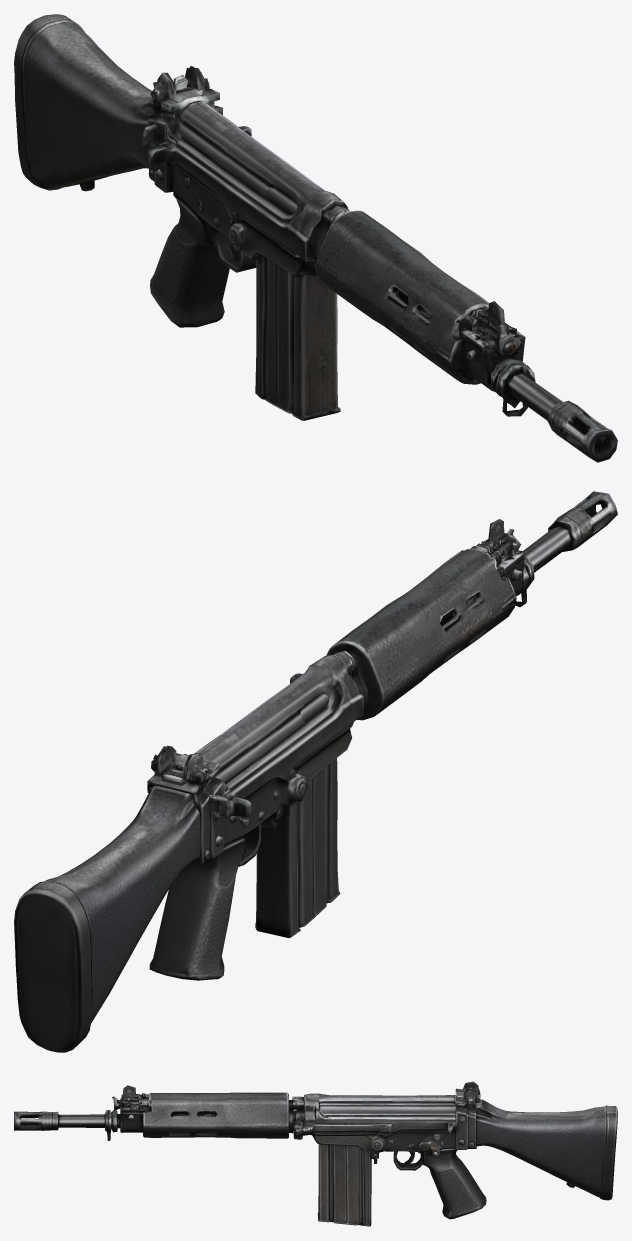
File: g_fnfal.glb
3 renders of one model, top to bottom at view 1: azimuth 30°, elevation 25°; view 2: azimuth 150°, elevation 25°; view 3: azimuth 270°, elevation 25°, orthographic. The views are drawn at different scales.
Parts seen in each view (by area): view 1: tripo_node_d779cb27-ff0c-41a3-9d4a-2d0b34cca73c; view 2: tripo_node_d779cb27-ff0c-41a3-9d4a-2d0b34cca73c; view 3: tripo_node_d779cb27-ff0c-41a3-9d4a-2d0b34cca73c.
Part boxes in pixels (x1,y1,x2,y2): tripo_node_d779cb27-ff0c-41a3-9d4a-2d0b34cca73c: (14,14,617,462); tripo_node_d779cb27-ff0c-41a3-9d4a-2d0b34cca73c: (14,491,617,1052); tripo_node_d779cb27-ff0c-41a3-9d4a-2d0b34cca73c: (14,1081,617,1226).
Bounding box in the file's own units: 0.1022 × 0.2456 × 0.98.
Materials: 1 (1 with a texture image).
